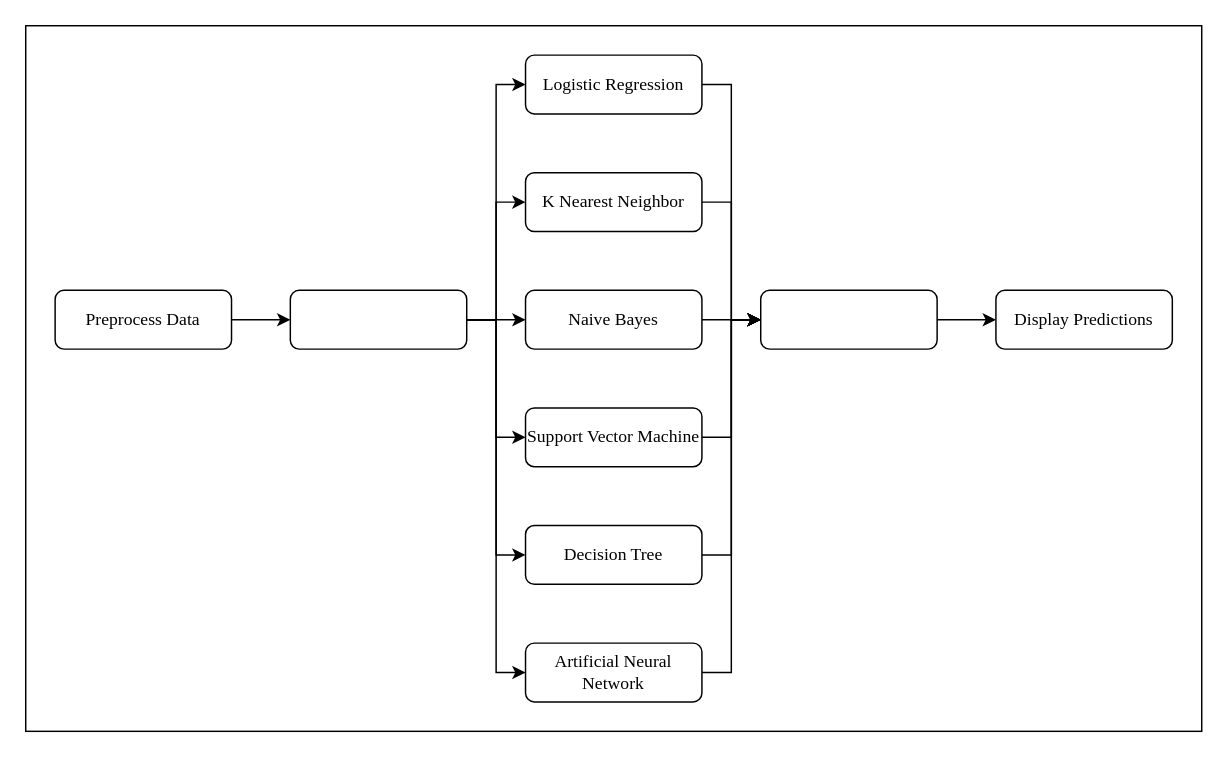
Some shapes in this 1227 by 757 pixel diagram are drawn without their labels. Here are the shapes that lost their labels. From the top down, the centre of each, then its label:
pixel 378 319: Training
pixel 848 319: Ensemble Model
